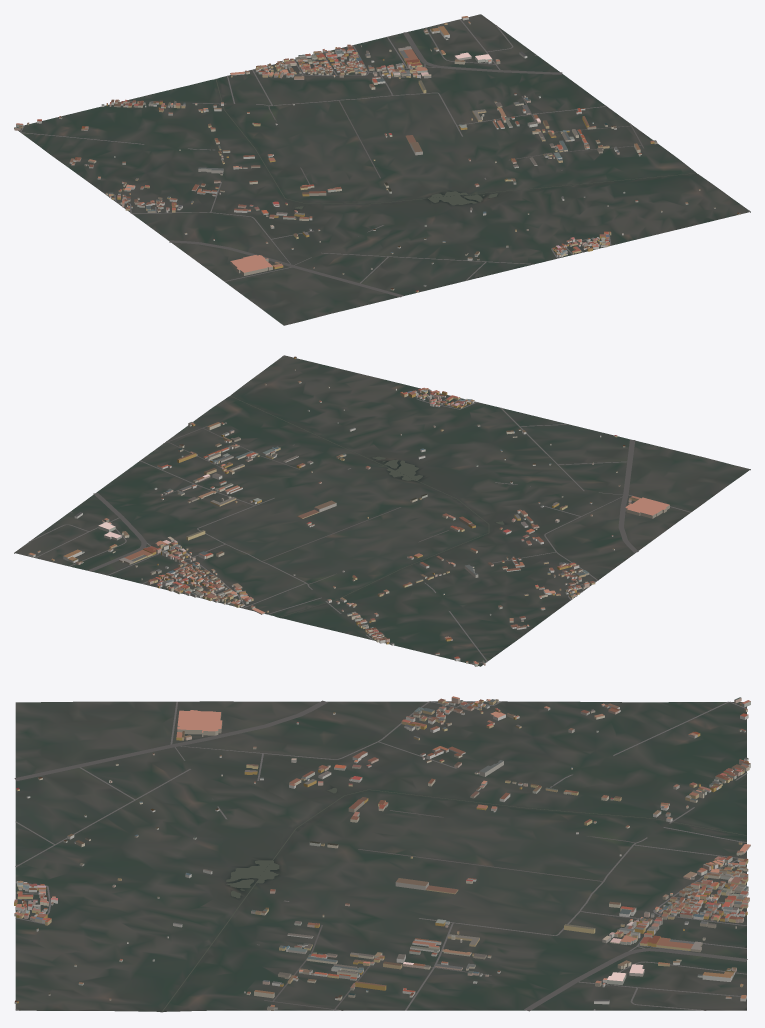
3 renders of one model, top to bottom at view 1: azimuth 30°, elevation 25°; view 2: azimuth 150°, elevation 25°; view 3: azimuth 270°, elevation 25°, orthographic. The views are drawn at different scales.
Parts seen in each view (by area): view 1: ground, buildings, roads, water; view 2: ground, buildings, roads, water; view 3: ground, buildings, roads, water.
Boxes of the visible parts, left/top/right/bottom form: ground: left=14, top=14, right=750, bottom=325; buildings: left=14, top=16, right=740, bottom=292; roads: left=20, top=19, right=749, bottom=297; water: left=215, top=79, right=696, bottom=209; ground: left=14, top=355, right=750, bottom=666; buildings: left=28, top=356, right=669, bottom=666; roads: left=29, top=355, right=691, bottom=664; water: left=230, top=395, right=504, bottom=617; ground: left=15, top=701, right=746, bottom=1012; buildings: left=14, top=696, right=750, bottom=1010; roads: left=14, top=700, right=747, bottom=1011; water: left=162, top=788, right=746, bottom=1011.
Size of the model in its own units: 1410 by 18.48 by 1413.
